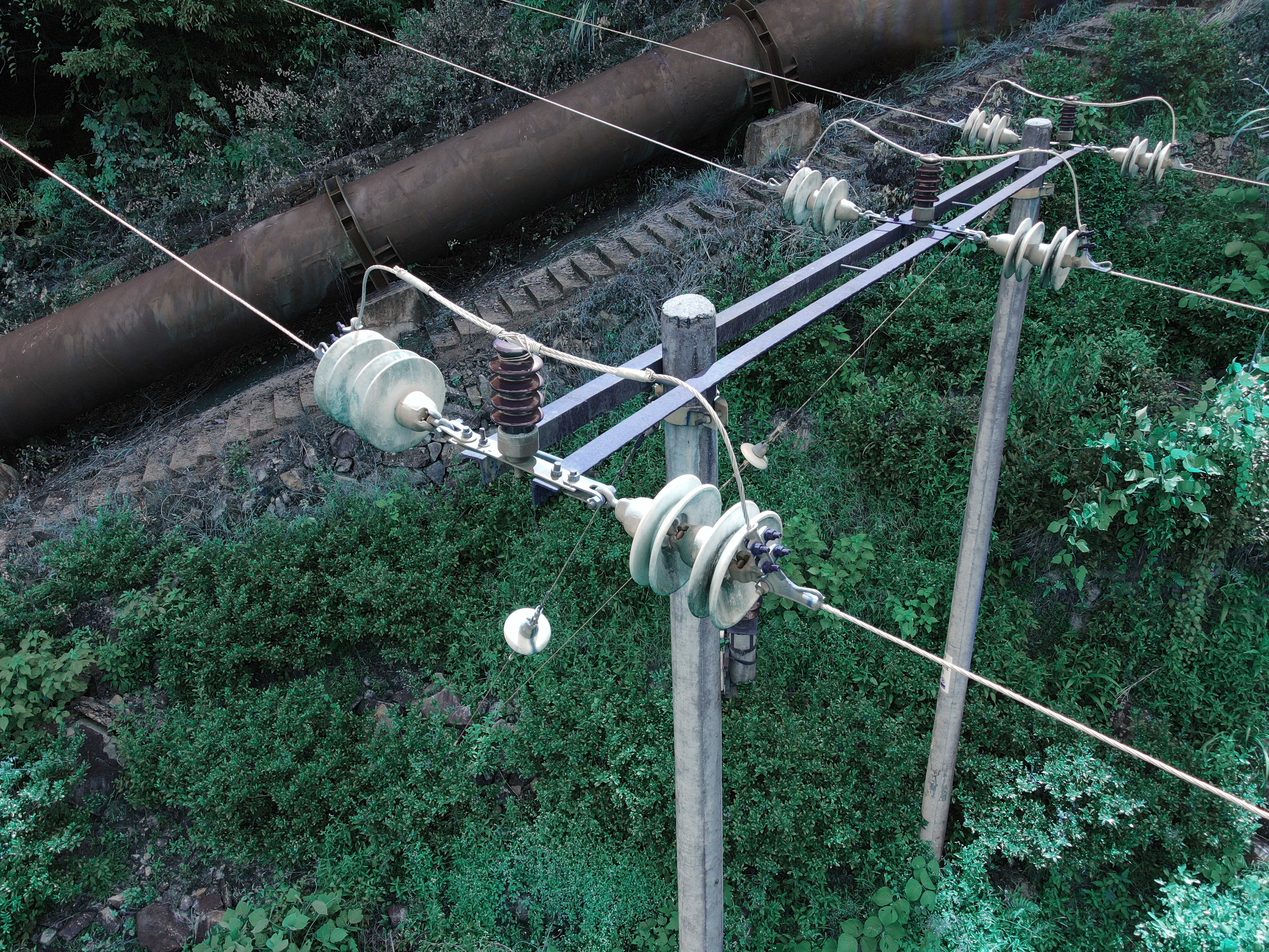severe_soiling_no_discharge_whole: (611, 471, 789, 632), (311, 326, 452, 458), (983, 214, 1082, 295), (778, 166, 865, 234), (1107, 132, 1175, 185), (958, 109, 1019, 152)
